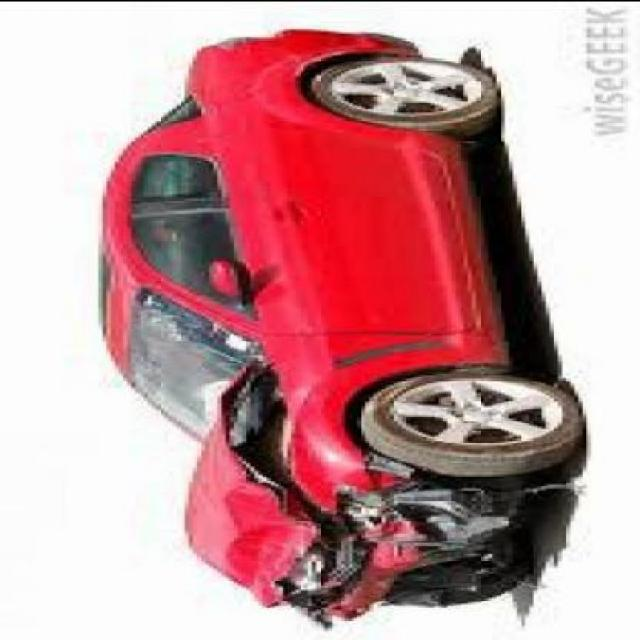damage: (183, 334, 528, 628)
